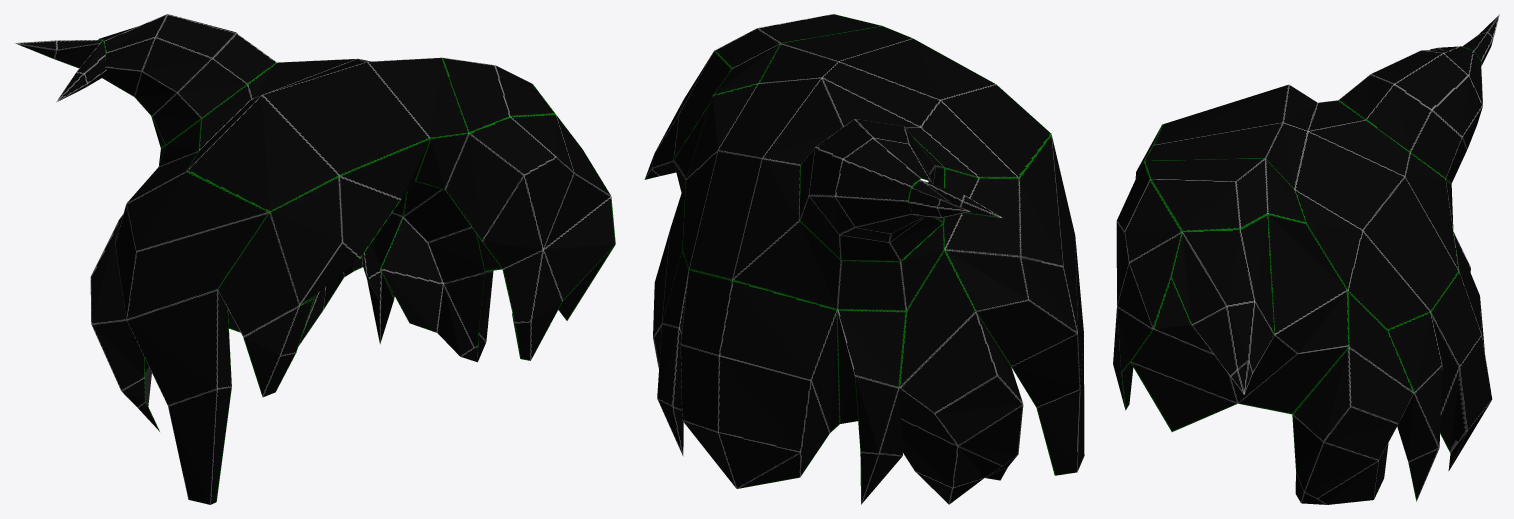
The model's file is Lucy_Wig.FBX.
3 renders of one model, left to right at view 1: azimuth 30°, elevation 25°; view 2: azimuth 150°, elevation 25°; view 3: azimuth 270°, elevation 25°, orthographic. The views are drawn at different scales.
Visible parts, largest first — view 1: Object001; view 2: Object001; view 3: Object001.
Part boxes in pixels (x1=…): Object001: x1=14, y1=14, x2=615, y2=504; Object001: x1=644, y1=14, x2=1084, y2=504; Object001: x1=1113, y1=14, x2=1499, y2=504.
Size of the model in its own units: 10.39 by 8.51 by 8.04.
1 material, 1 textured.
